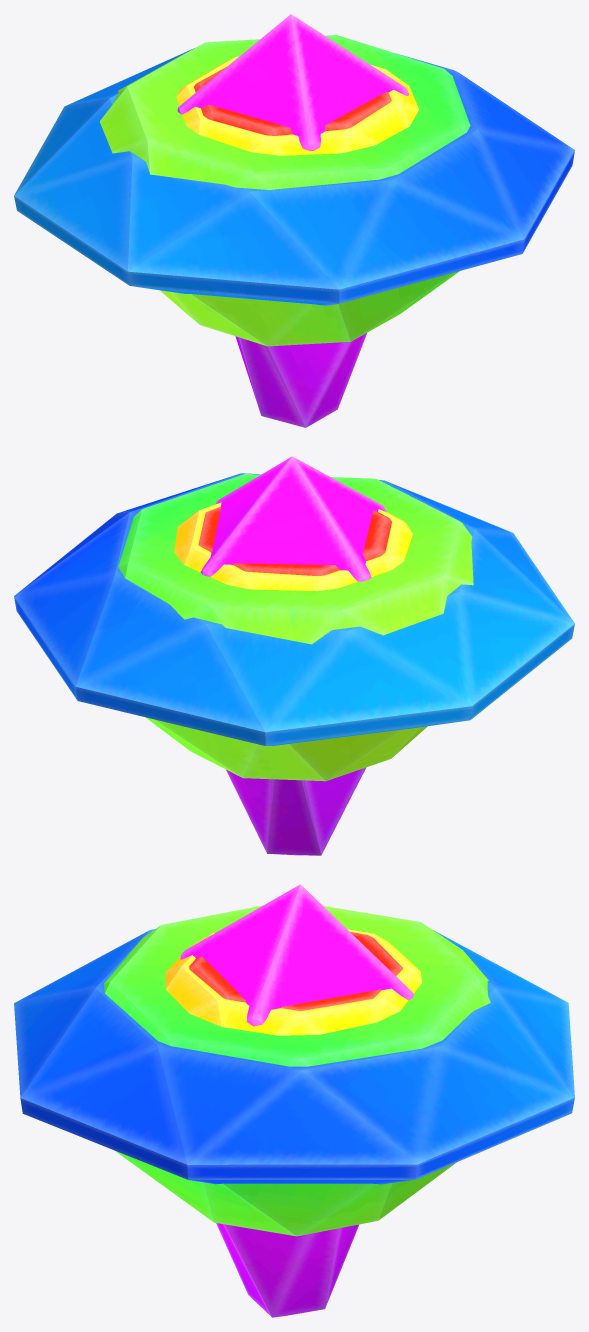
Rendered from gems.glb.
3 views of the same model, one above another, from view 1: azimuth 30°, elevation 25°; view 2: azimuth 150°, elevation 25°; view 3: azimuth 270°, elevation 25° (orthographic). The views are drawn at different scales.
Parts seen in each view (by area): view 1: gem_blue, gem_green, gem_purple, gem_yellow, gem_red; view 2: gem_blue, gem_green, gem_purple, gem_yellow, gem_red; view 3: gem_blue, gem_green, gem_purple, gem_yellow, gem_red.
Boxes of the visible parts, x1,y1,x2,y2 form: gem_blue: (14, 48, 574, 305); gem_green: (99, 35, 470, 346); gem_purple: (177, 14, 408, 427); gem_yellow: (176, 56, 418, 155); gem_red: (194, 67, 391, 135); gem_blue: (14, 473, 574, 745); gem_green: (118, 474, 473, 781); gem_purple: (200, 456, 386, 855); gem_yellow: (174, 502, 412, 591); gem_red: (198, 506, 391, 575); gem_blue: (14, 929, 574, 1184); gem_green: (104, 905, 490, 1236); gem_purple: (180, 884, 413, 1317); gem_yellow: (165, 929, 421, 1035); gem_red: (189, 932, 402, 1010).
Bounding box in the file's own units: 1.8 × 1.53 × 1.8.
5 materials, 5 textured.
